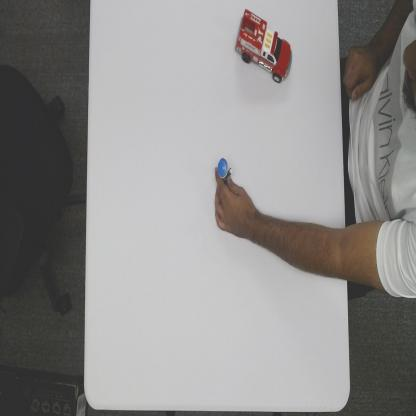Arm: (255, 205, 346, 281)
Firetruck: (234, 9, 294, 85)
Hand: (216, 175, 253, 234)
